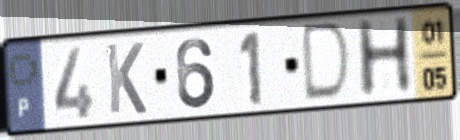1: (237, 30, 264, 108)
4: (51, 44, 97, 121)
6: (173, 36, 219, 111)
D: (301, 19, 354, 104)
H: (353, 14, 416, 102)
K: (103, 40, 149, 117)
